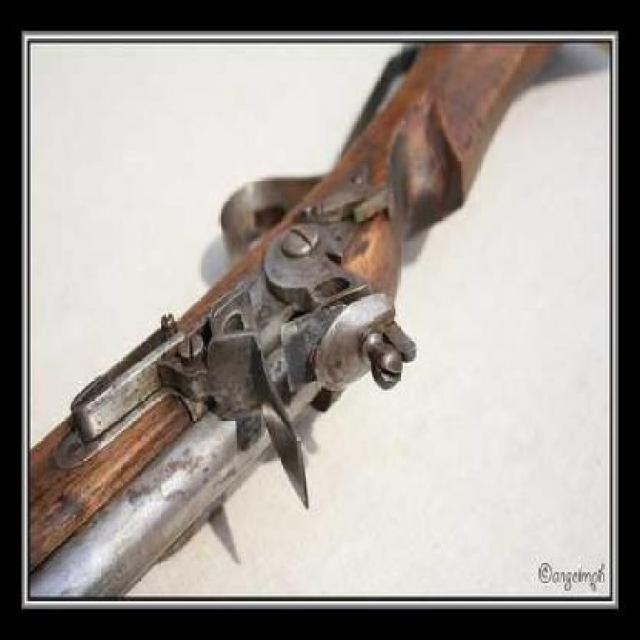weapon: (31, 39, 568, 596)
